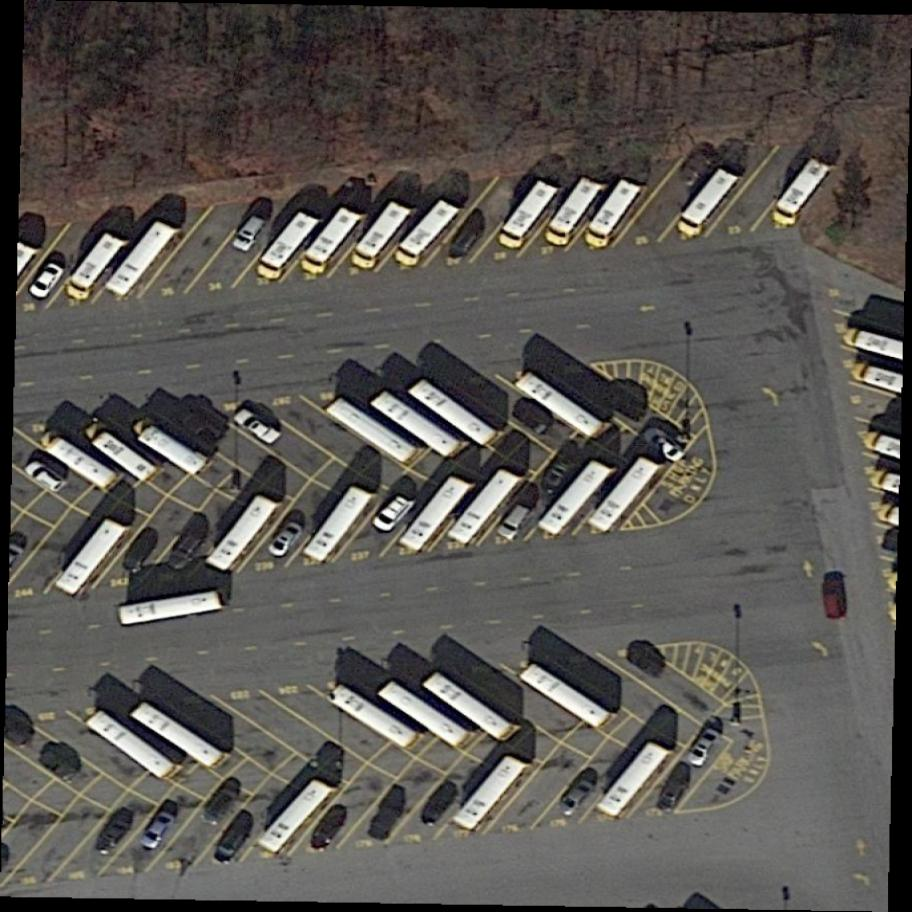large-vehicle: (48, 503, 145, 611), (125, 695, 239, 781), (507, 364, 622, 449), (320, 385, 431, 472), (403, 370, 513, 455), (448, 746, 542, 845), (202, 483, 294, 584), (81, 700, 189, 786), (417, 666, 526, 751), (580, 445, 675, 542), (252, 770, 347, 867), (320, 674, 430, 757), (513, 654, 623, 736), (366, 383, 472, 468), (532, 447, 622, 546), (445, 457, 534, 555), (371, 677, 481, 756), (303, 476, 386, 575), (593, 734, 681, 827), (36, 414, 130, 500), (104, 213, 187, 310), (395, 465, 475, 562), (125, 406, 215, 485), (392, 194, 471, 281), (250, 201, 328, 289), (673, 161, 750, 249), (80, 411, 165, 490), (298, 198, 375, 285), (346, 195, 423, 280), (495, 175, 569, 261), (767, 151, 842, 235), (541, 171, 610, 258), (64, 224, 134, 309), (582, 174, 650, 255), (113, 586, 231, 631), (210, 803, 265, 870)
small-vehicle: (360, 778, 415, 852), (195, 767, 257, 832), (90, 801, 145, 864), (303, 793, 356, 857), (413, 773, 467, 835), (116, 519, 169, 581), (617, 635, 678, 688), (166, 396, 226, 449), (226, 401, 285, 454), (437, 215, 489, 275), (550, 772, 604, 826), (160, 527, 211, 583), (677, 721, 727, 778), (368, 485, 420, 539), (534, 446, 584, 502), (637, 419, 693, 468), (505, 395, 562, 443), (23, 256, 69, 306), (20, 453, 70, 499), (650, 770, 695, 821), (262, 515, 308, 564), (226, 211, 270, 260), (493, 499, 536, 548), (37, 746, 85, 788), (136, 808, 177, 856), (816, 576, 856, 620)
